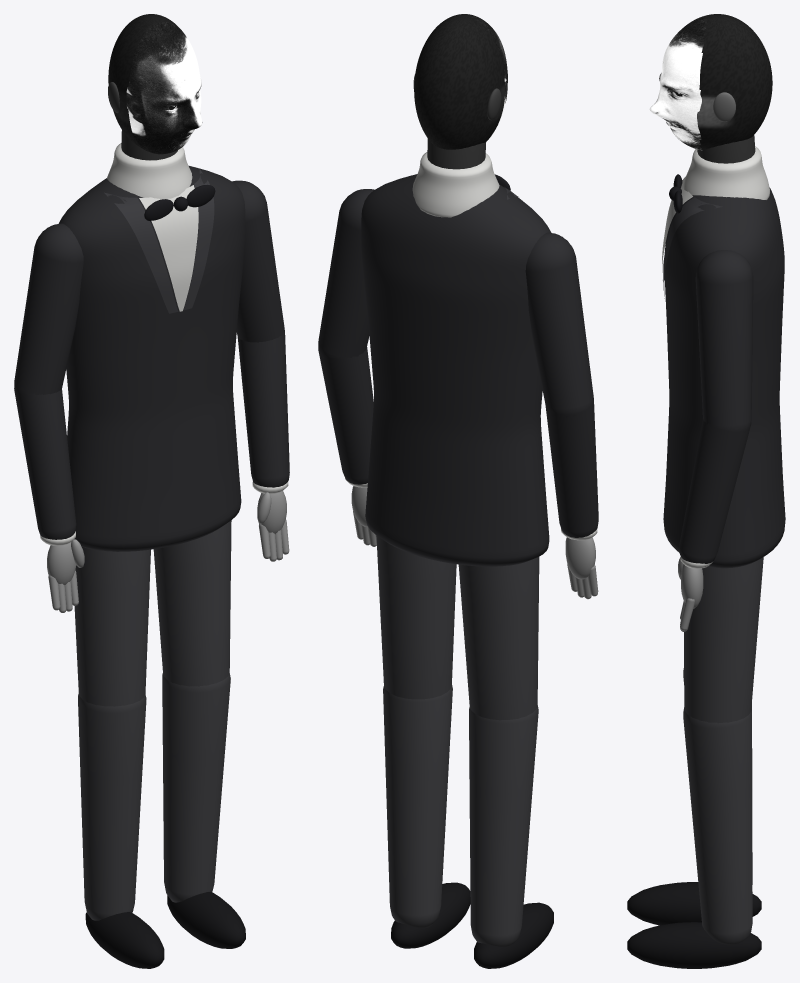
The model's file is paul_klee.glb.
The picture shows the model from 3 angles, left to right: view 1: azimuth 30°, elevation 25°; view 2: azimuth 150°, elevation 25°; view 3: azimuth 270°, elevation 25°; orthographic projection.
Visible parts, largest first — view 1: jacket_torso, shin_R, shin_L, thigh_L, thigh_R, head_face_photo, upper_arm_L, forearm_L, forearm_R, upper_arm_R, shirt_front, collar (+9 smaller); view 2: jacket_torso, shin_R, shin_L, thigh_L, thigh_R, head_hair, upper_arm_L, forearm_L, upper_arm_R, forearm_R, collar, shoe_L (+5 smaller); view 3: jacket_torso, shin_R, thigh_R, upper_arm_R, head_hair, forearm_R, head_face_photo, shoe_R, collar, shoe_L, shoulder_R, neck (+4 smaller).
Boxes of the visible parts, box(x1,y1,x2,y2) form: jacket_torso: box(58, 166, 245, 551); shin_R: box(162, 673, 230, 902); shin_L: box(78, 693, 146, 920); thigh_L: box(74, 546, 150, 706); thigh_R: box(153, 520, 231, 686); head_face_photo: box(126, 22, 202, 154); upper_arm_L: box(14, 223, 83, 394); forearm_L: box(14, 386, 76, 539); forearm_R: box(237, 331, 289, 487); upper_arm_R: box(233, 180, 284, 342); shirt_front: box(139, 185, 198, 311); collar: box(107, 143, 192, 199); jacket_torso: box(361, 174, 550, 566); shin_R: box(383, 685, 452, 928); shin_L: box(469, 705, 538, 946); thigh_L: box(458, 557, 539, 720); thigh_R: box(376, 535, 456, 699); head_hair: box(414, 14, 504, 149); upper_arm_L: box(525, 232, 593, 417); forearm_L: box(545, 398, 598, 537); upper_arm_R: box(318, 189, 374, 357); forearm_R: box(318, 345, 373, 484); collar: box(412, 152, 499, 217); shoe_L: box(474, 902, 553, 968); jacket_torso: box(663, 187, 785, 568); shin_R: box(683, 707, 752, 944); thigh_R: box(684, 557, 763, 723); upper_arm_R: box(695, 250, 753, 433); head_hair: box(697, 14, 772, 149); forearm_R: box(679, 419, 751, 563); head_face_photo: box(649, 15, 707, 150); shoe_R: box(627, 922, 761, 968); collar: box(683, 146, 769, 199); shoe_L: box(627, 882, 761, 925); shoulder_R: box(696, 250, 752, 285); neck: box(697, 135, 755, 163).
Size of the model in its own units: 0.5339 by 1.77 by 0.2736.
12 materials, 1 textured.
